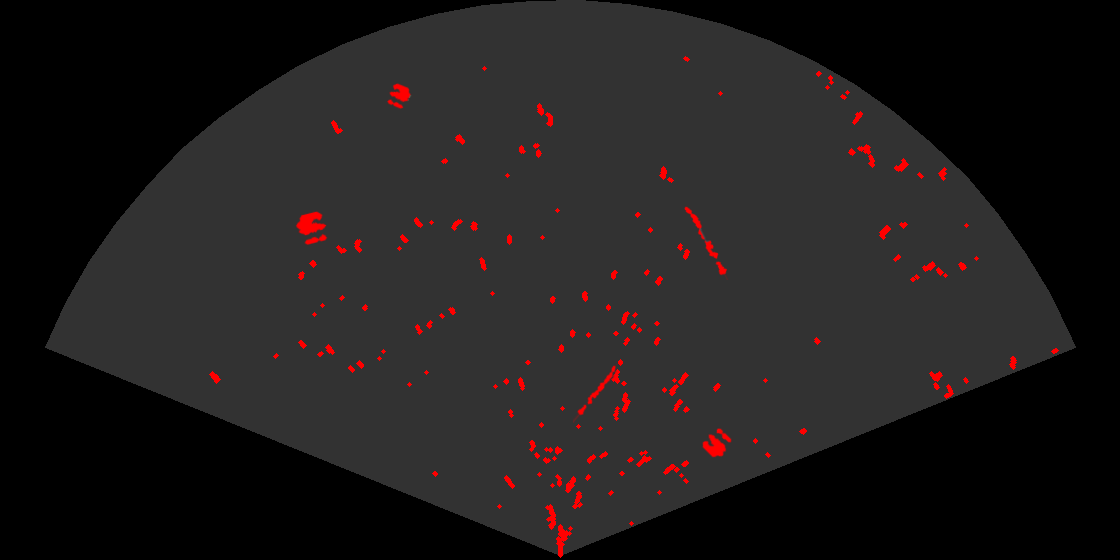ball: (294, 210, 329, 246), (701, 427, 733, 459), (385, 82, 413, 111)
chain: (683, 205, 730, 280), (573, 362, 619, 423)
